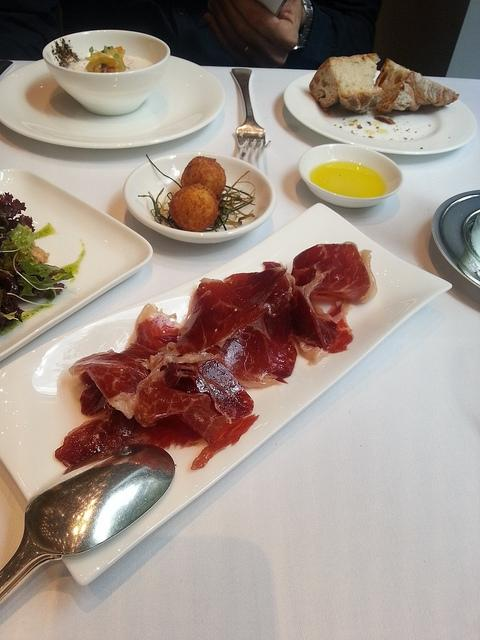lettuce: (0, 192, 36, 234), (17, 261, 49, 282), (0, 232, 19, 251), (18, 244, 36, 262)
